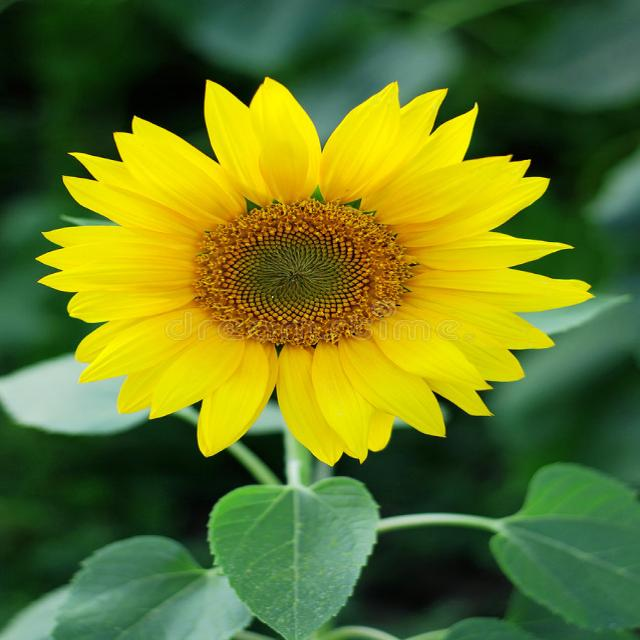sunflower: (39, 66, 597, 482)
